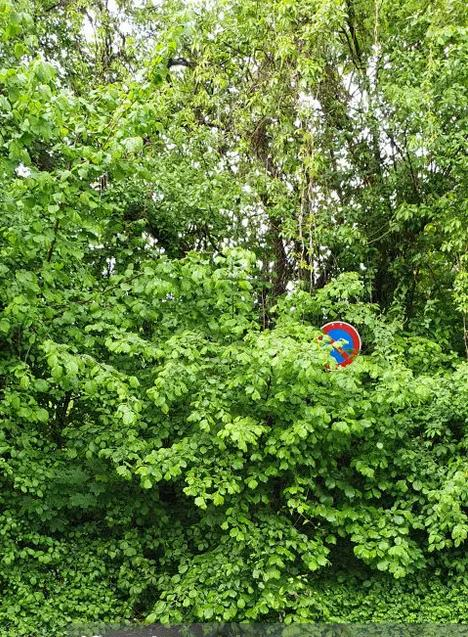obstructed_road_sign: (318, 321, 360, 367)
